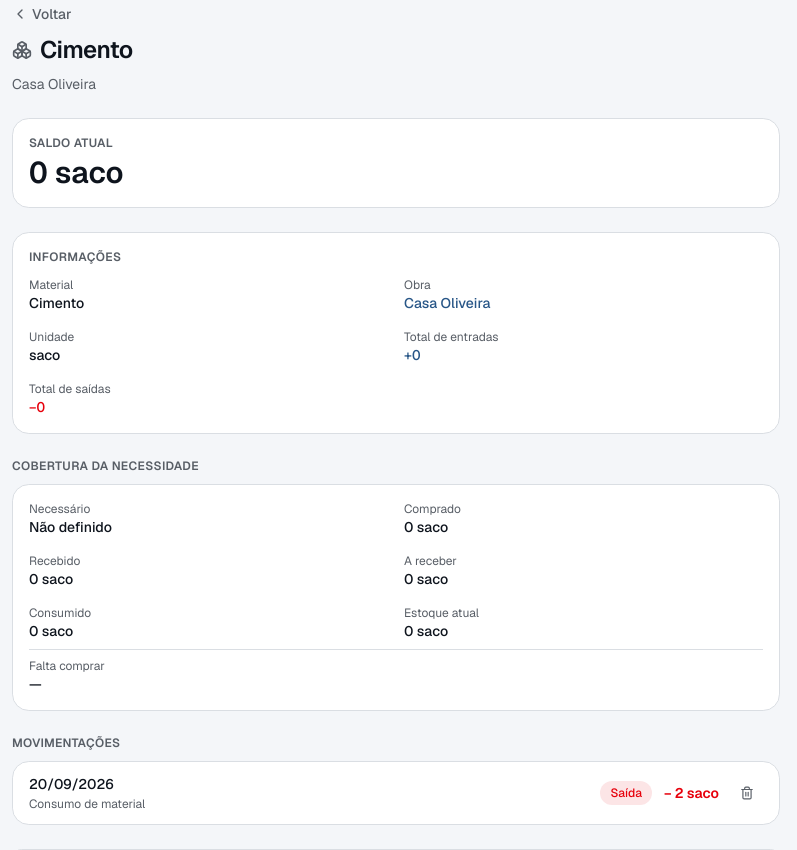
Scenario: StockDetail — SUPPLY-FRONTEND-01D §20-26 (SD1-SD16) › SD7: a failed delete shows a controlled error, never reloads
Click the button named "excluir consumo": (747, 793) [731, 777, 763, 809]
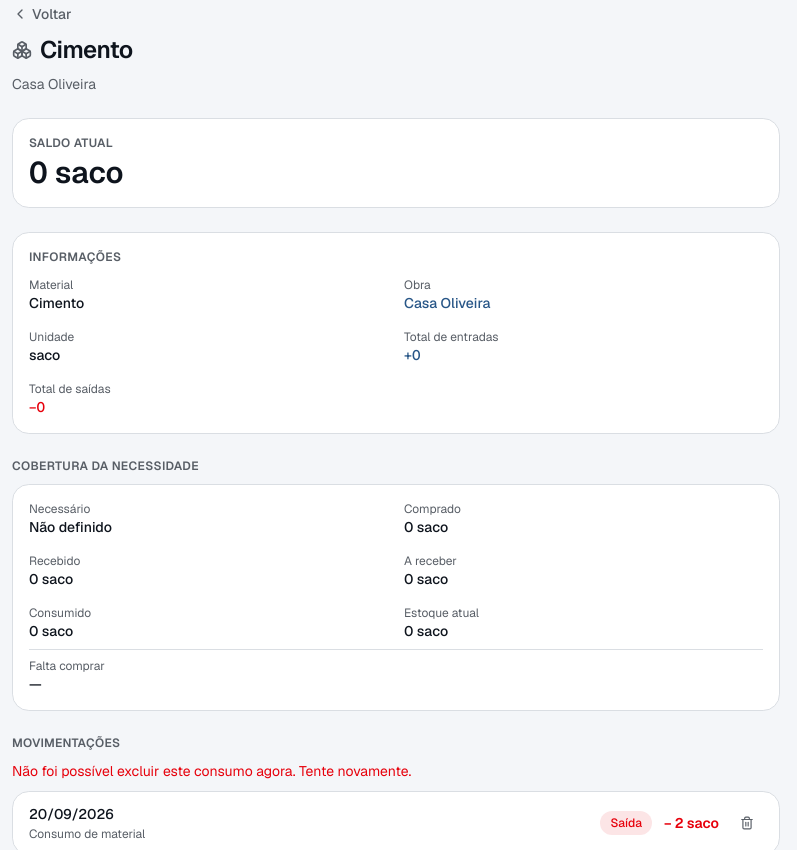
Check: the text "Não foi possível excluir este consumo agora. Tente novamente." is shown, box [12, 762, 411, 780]
